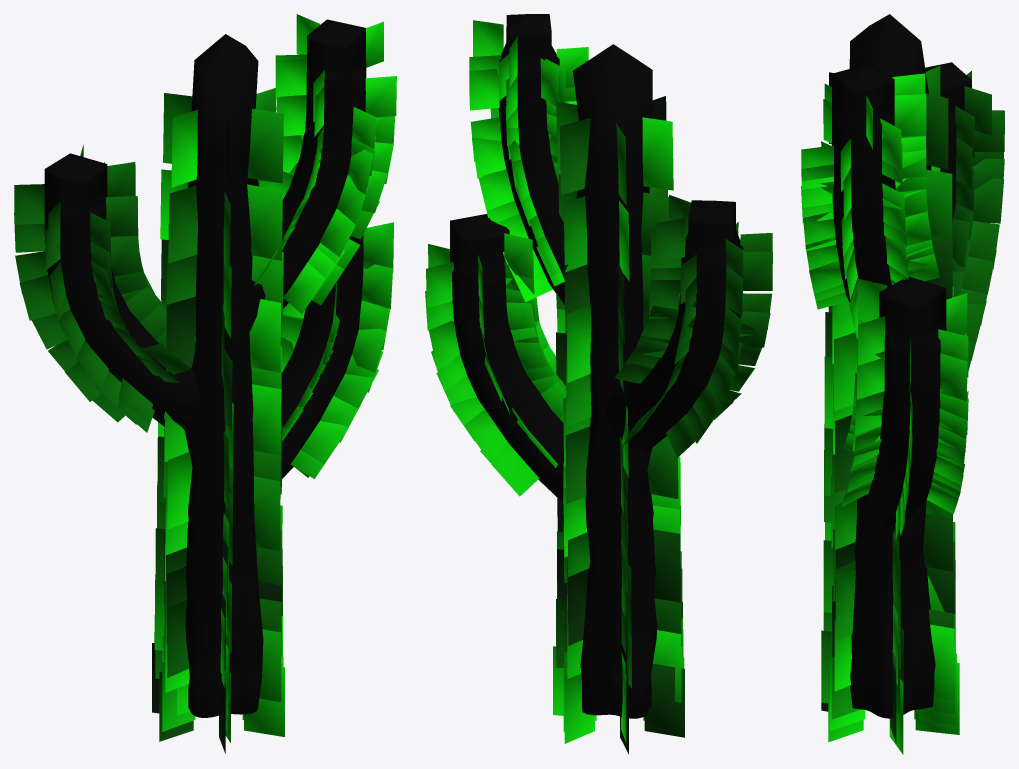
File: Cactus_1_1.fbx
3 renders of one model, left to right at view 1: azimuth 30°, elevation 25°; view 2: azimuth 150°, elevation 25°; view 3: azimuth 270°, elevation 25°, orthographic. The views are drawn at different scales.
Parts seen in each view (by area): view 1: Cactus_1_1; view 2: Cactus_1_1; view 3: Cactus_1_1.
Boxes of the visible parts, x1,y1,x2,y2 form: Cactus_1_1: (14, 14, 396, 753); Cactus_1_1: (425, 14, 772, 754); Cactus_1_1: (801, 14, 1004, 754).
Bounding box in the file's own units: 184 × 346 × 89.66.
